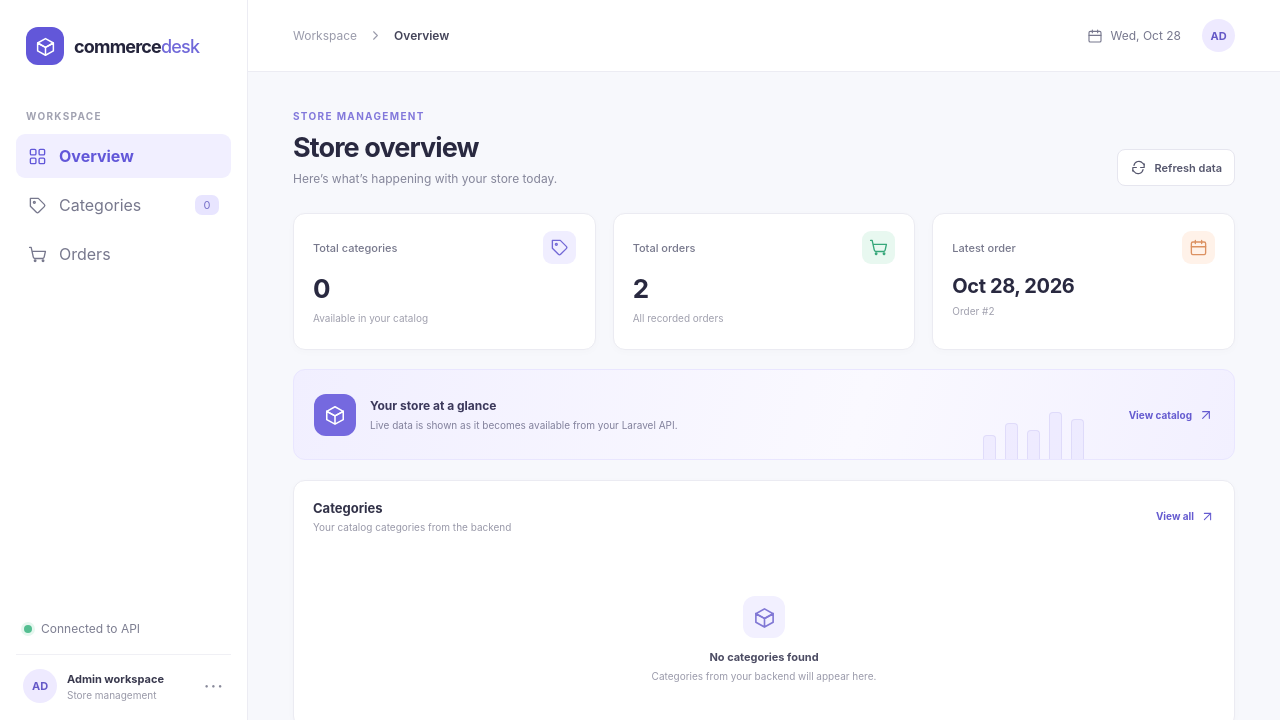
it: searches orders and displays newest orders first
Click the button "Orders" at [124, 254], box [16,232,231,276]
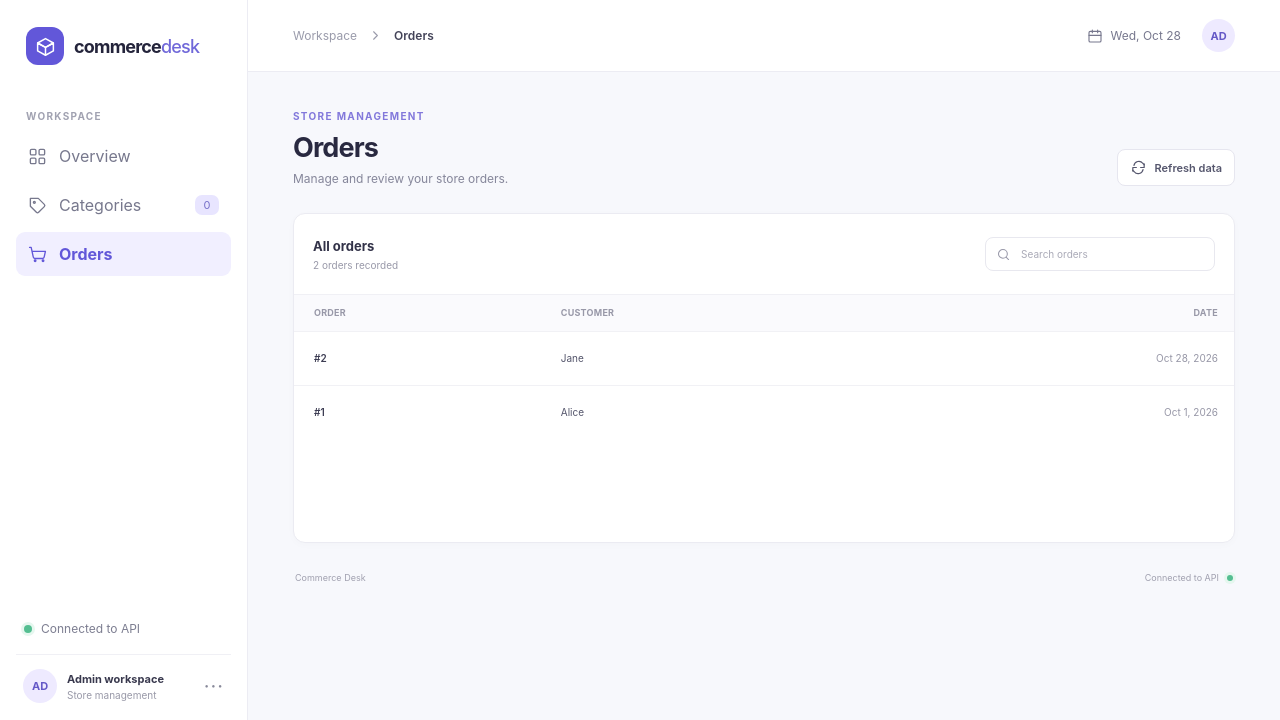
Expected: the row "#2 Jane Oct 28, 2026" is shown, [294,331,1234,385]
Type "Alice" into the field labelled "Search orders" at [1112, 254], box [1019,247,1204,261]
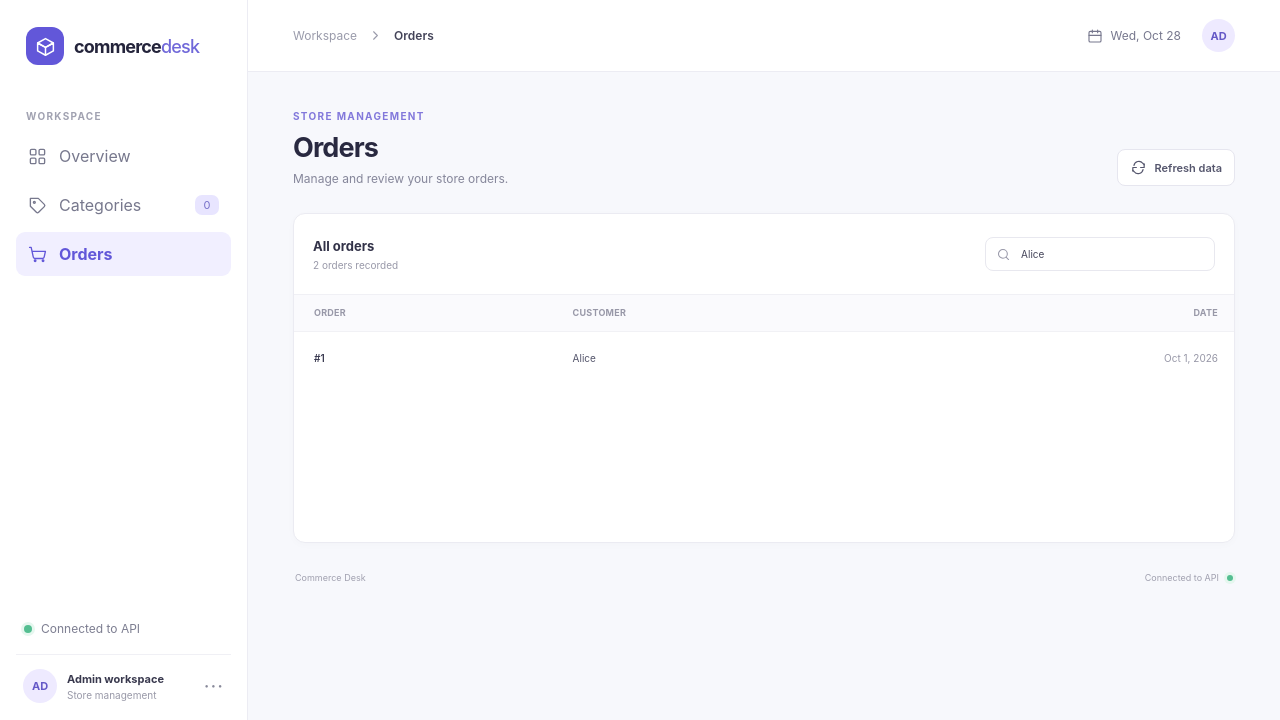
Expected: the text "Alice" is shown, [572,331,862,385]
Expected: the text "Jane" is gone
